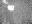person: (7, 6, 14, 10), (3, 1, 8, 5)
